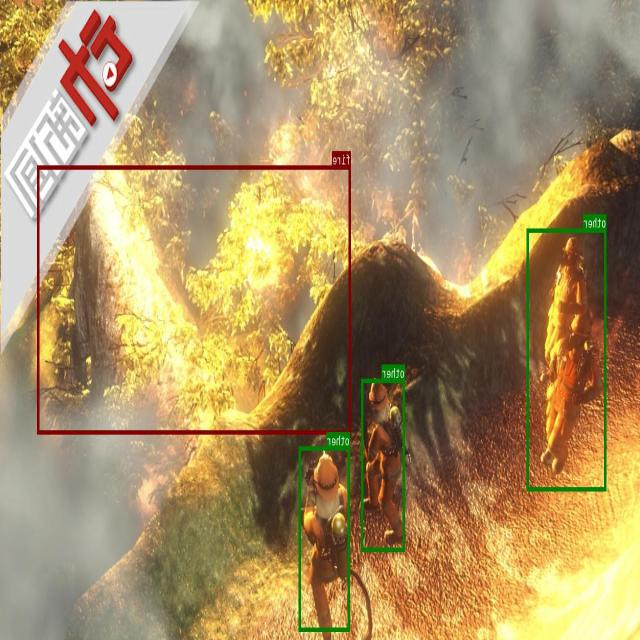fire: (38, 165, 351, 434)
other: (527, 228, 607, 490), (299, 446, 350, 631), (362, 378, 405, 551)
